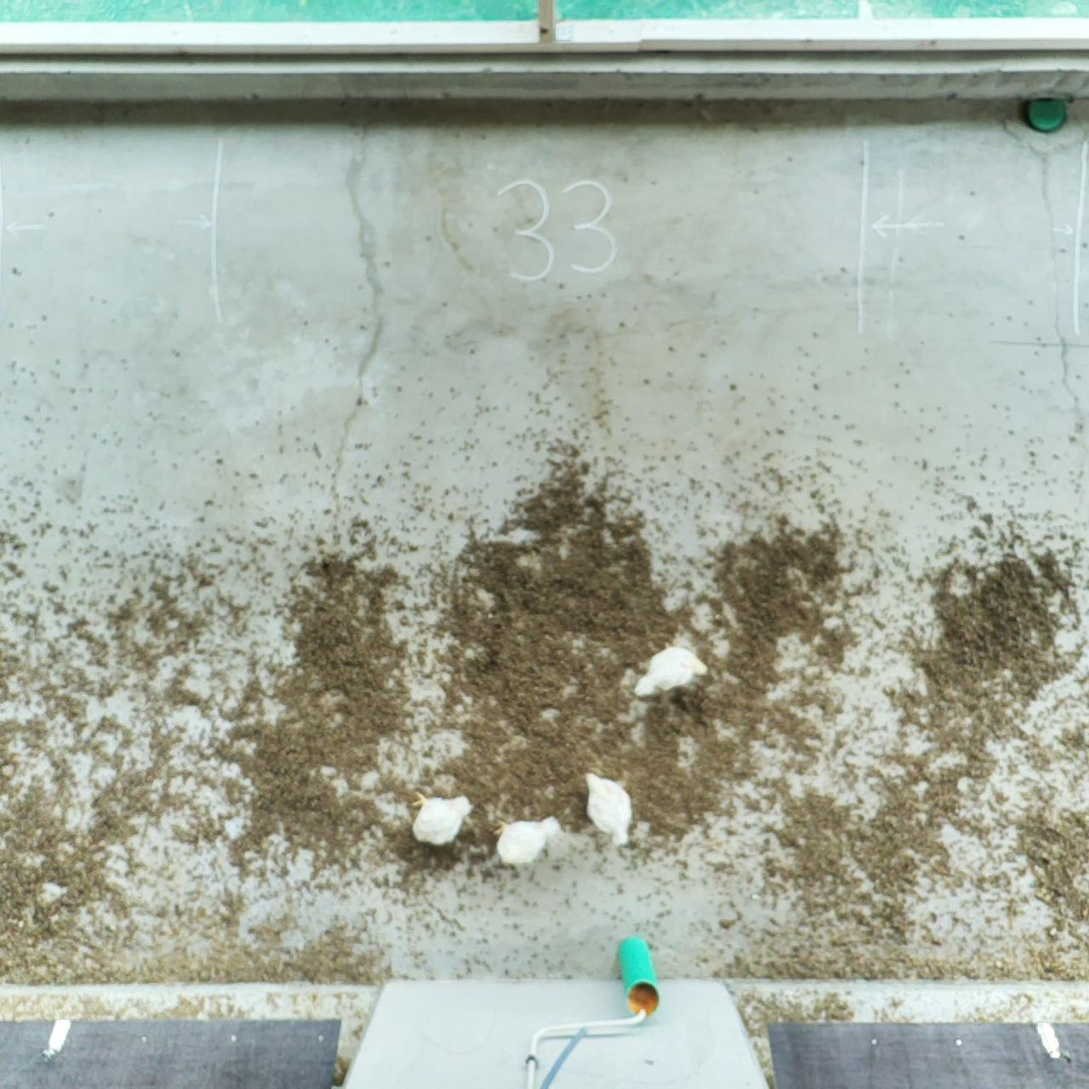chicken: (628, 635, 710, 700), (578, 764, 637, 850), (405, 788, 478, 849), (488, 814, 563, 870)
